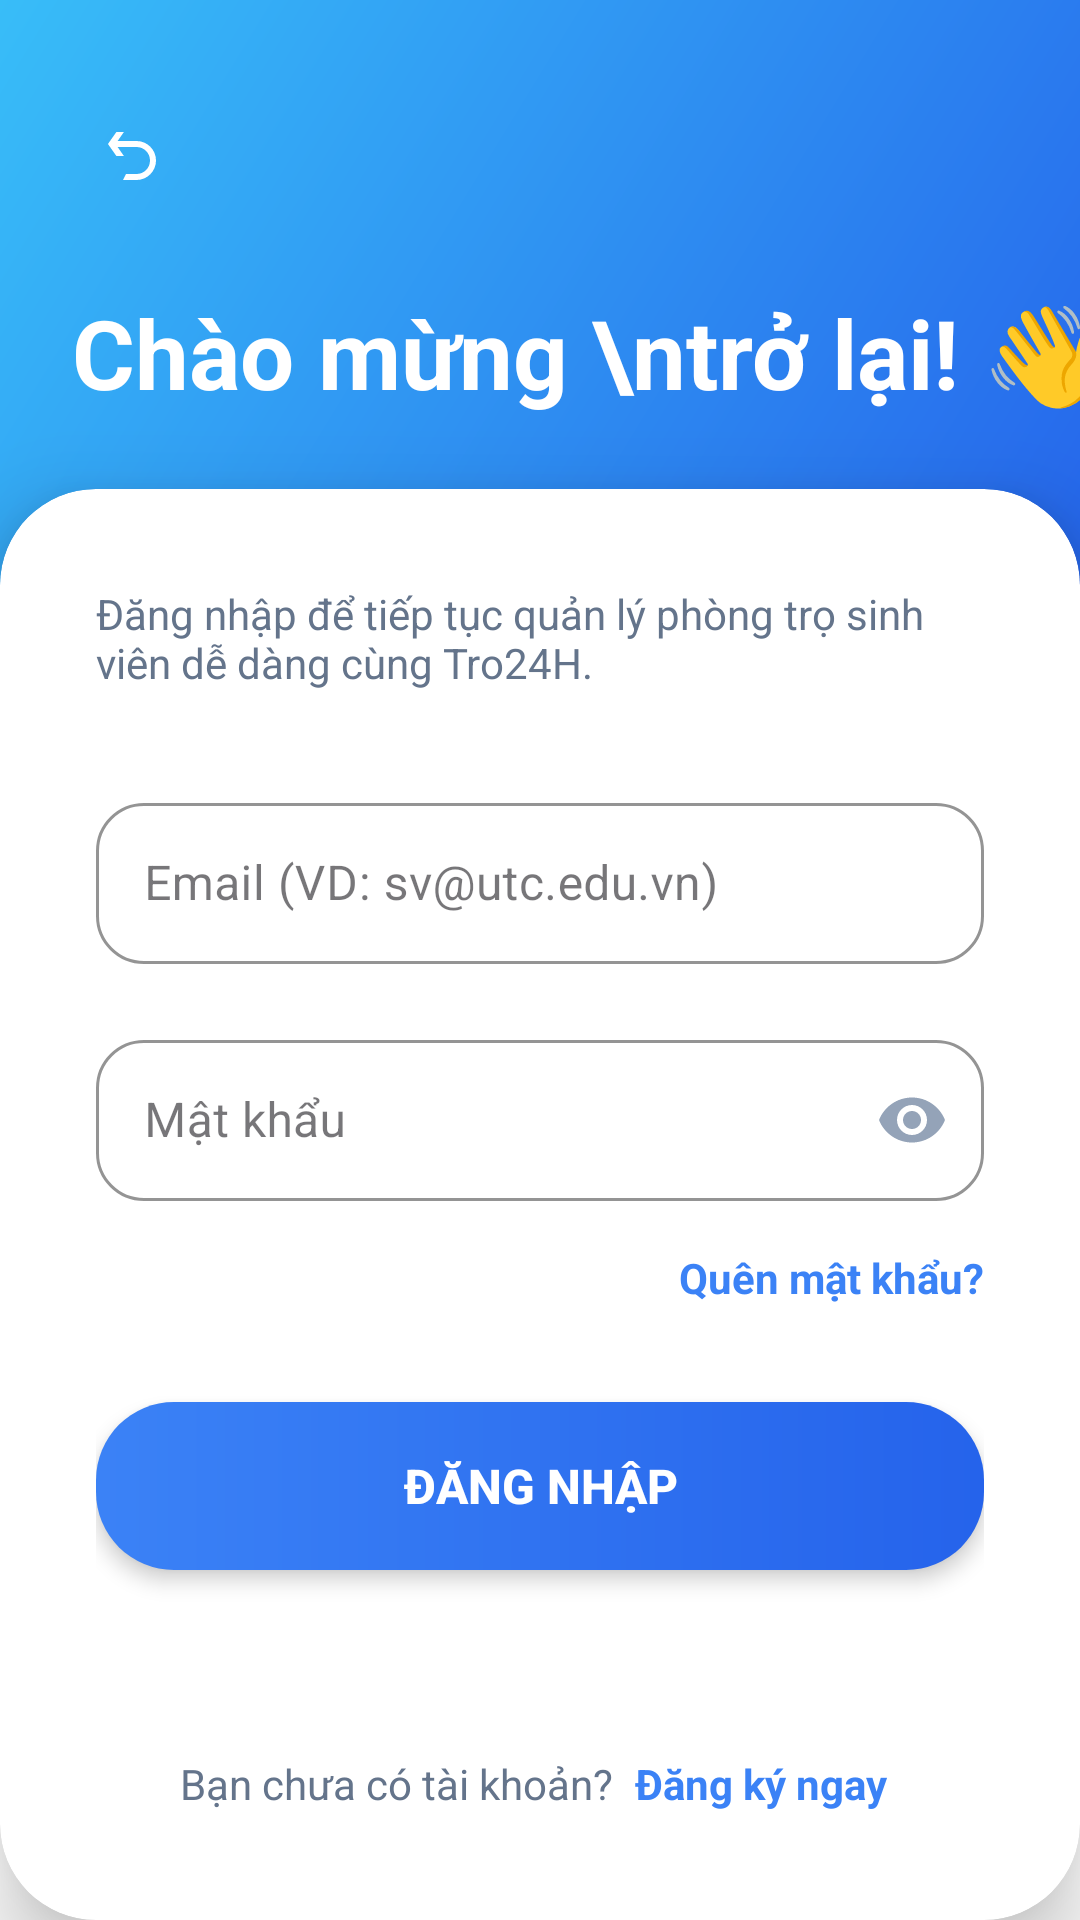

Named icons in this screenshot (1080×1920) and their bounding boxes, (x1, y1, x2, y2):
back custom: (108, 132, 156, 180)
